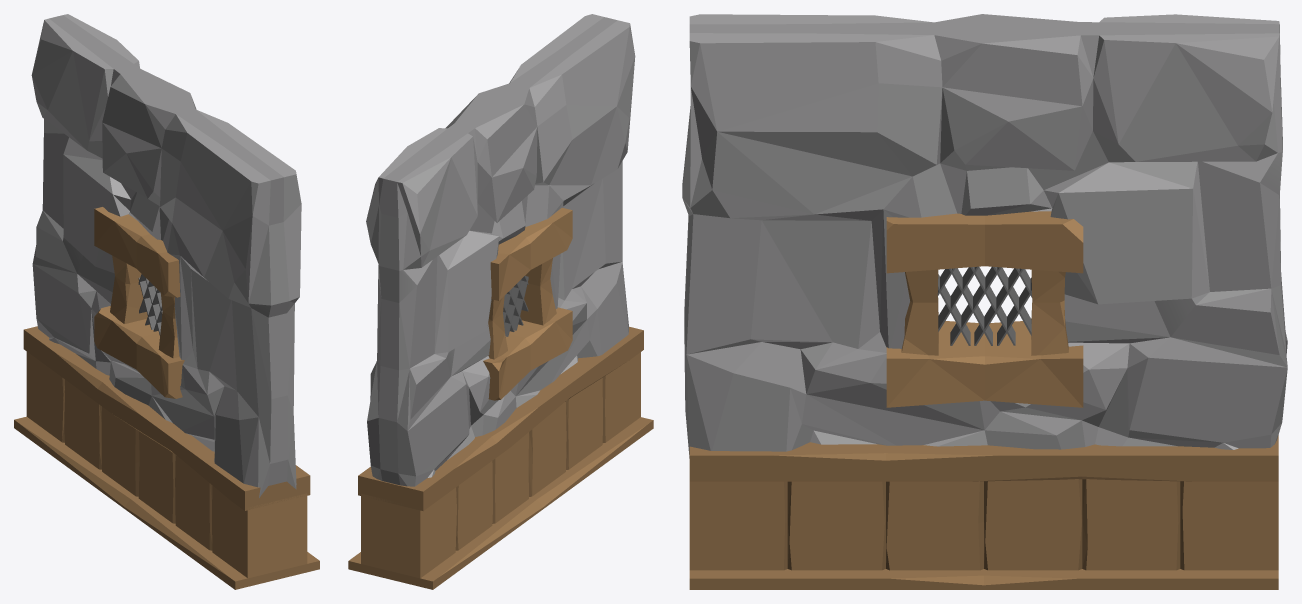
The model's file is SFV_Window1_Rock_M_002.fbx.
3 renders of one model, left to right at view 1: azimuth 30°, elevation 25°; view 2: azimuth 150°, elevation 25°; view 3: azimuth 270°, elevation 25°, orthographic. The views are drawn at different scales.
Parts seen in each view (by area): view 1: SFV_Window1_Rock_M_002; view 2: SFV_Window1_Rock_M_002; view 3: SFV_Window1_Rock_M_002.
Boxes of the visible parts, <box> form: SFV_Window1_Rock_M_002: <box>14,14,319,589</box>; SFV_Window1_Rock_M_002: <box>348,14,653,589</box>; SFV_Window1_Rock_M_002: <box>682,14,1287,589</box>.
Size of the model in its own units: 66.39 by 300 by 309.
